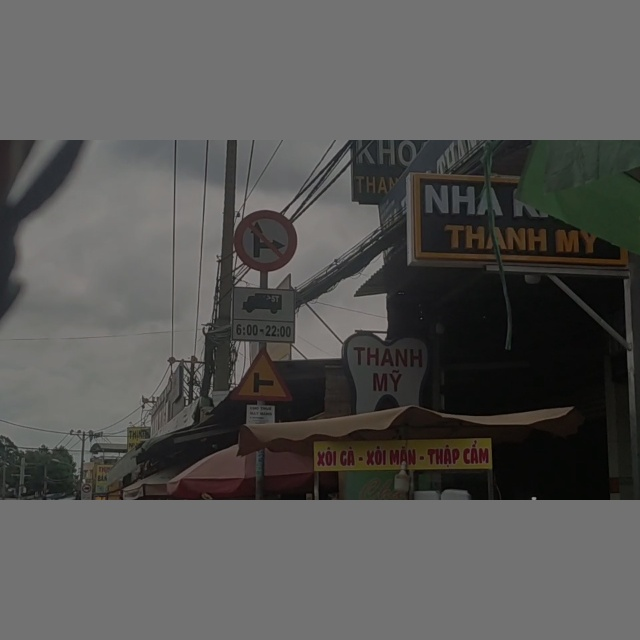P.139: (235, 209, 297, 271)
S.505a*Xe tai: (231, 287, 294, 339)
W.205b: (232, 349, 291, 402)
